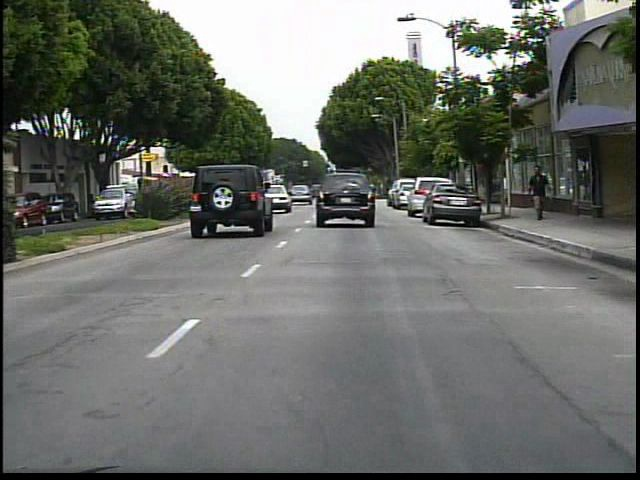person: (525, 164, 552, 225)
